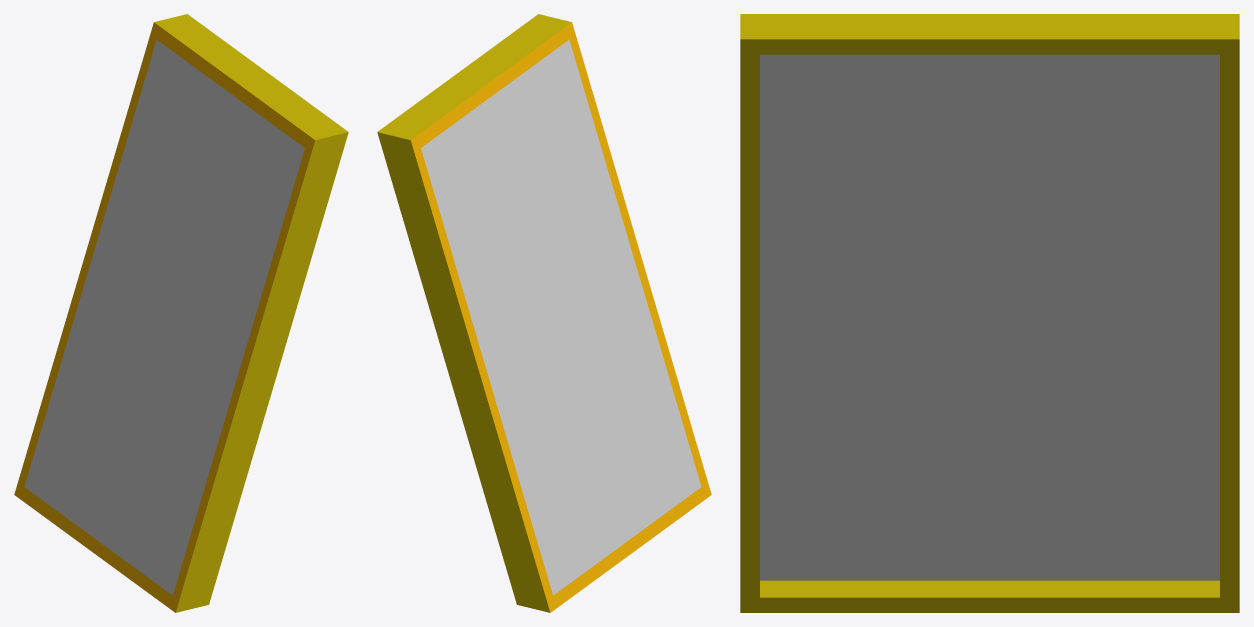
Rendered from window_slanted_2x1x3.dae.
3 views of the same model, side by side, from view 1: azimuth 30°, elevation 25°; view 2: azimuth 150°, elevation 25°; view 3: azimuth 270°, elevation 25° (orthographic). The views are drawn at different scales.
Visible parts, largest first — view 1: Cube; view 2: Cube; view 3: Cube.
Part boxes in pixels (x1=…): Cube: x1=14, y1=14, x2=348, y2=612; Cube: x1=377, y1=14, x2=711, y2=612; Cube: x1=740, y1=14, x2=1239, y2=612.
Bounding box in the file's own units: 0.31 × 0.5 × 0.75.
